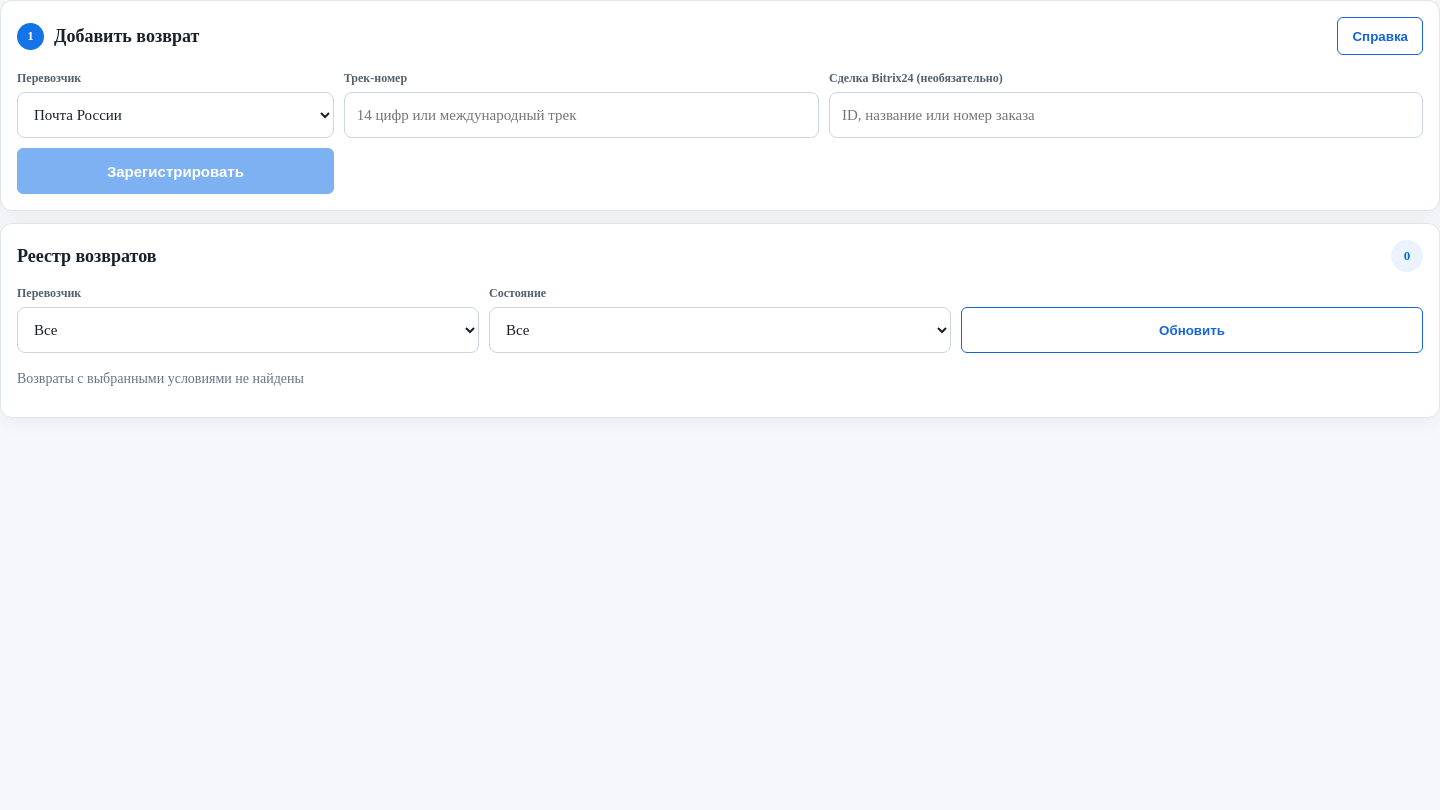
Test: CustomerReturnsWorkspace › открывает рабочую справку и возвращает фокус после закрытия
Check: the text "Возвраты с выбранными условиями не найдены" is shown, box [17,371,304,386]
Click the button with aria-label "Открыть справку по возвратам" at (1380,36), box [1338,17,1423,55]
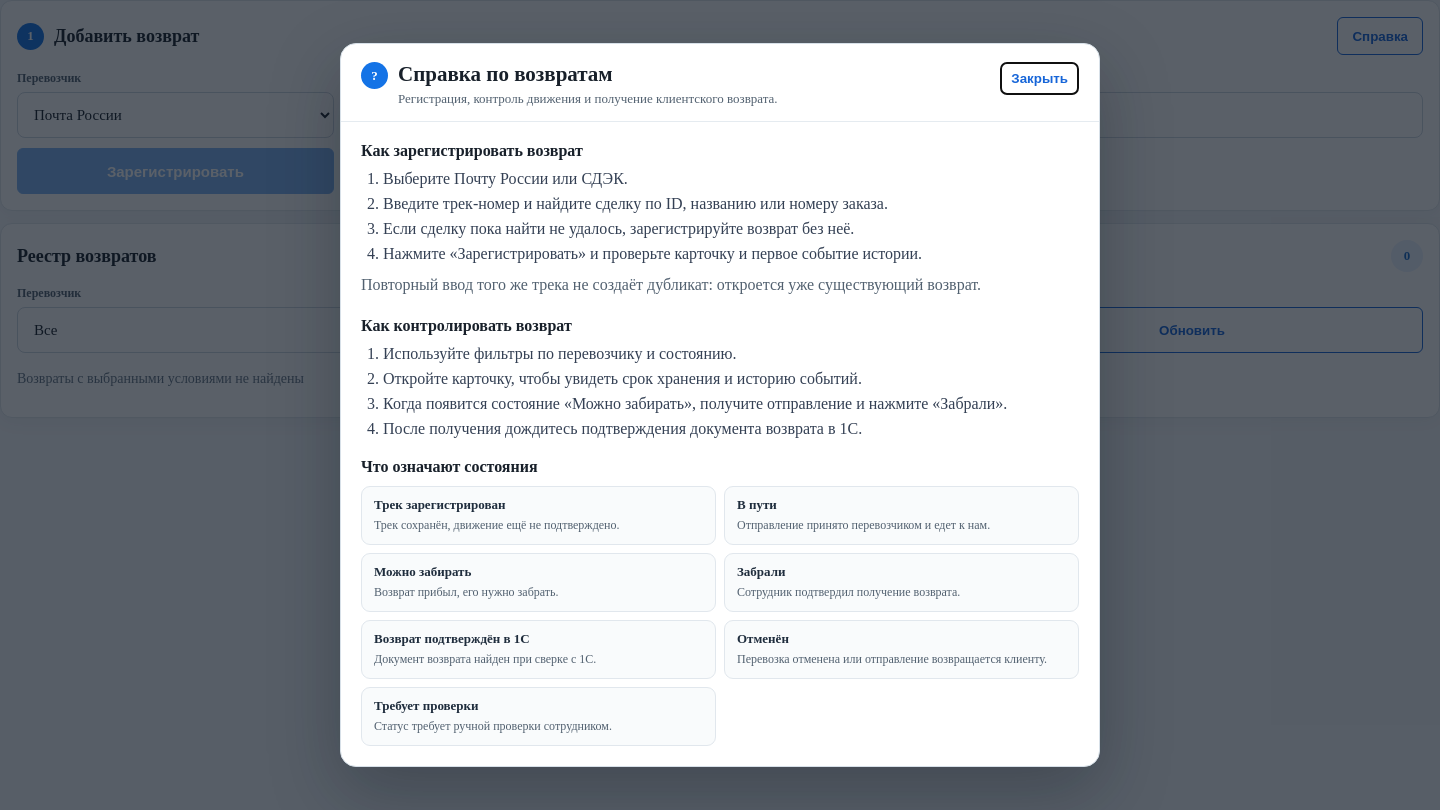
Check: the dialog "Справка по возвратам" is shown
Check: the heading "Как зарегистрировать возврат" is shown, box [361,142,583,159]
Press Escape in the dialog "Справка по возвратам", box [340,43,1100,767]
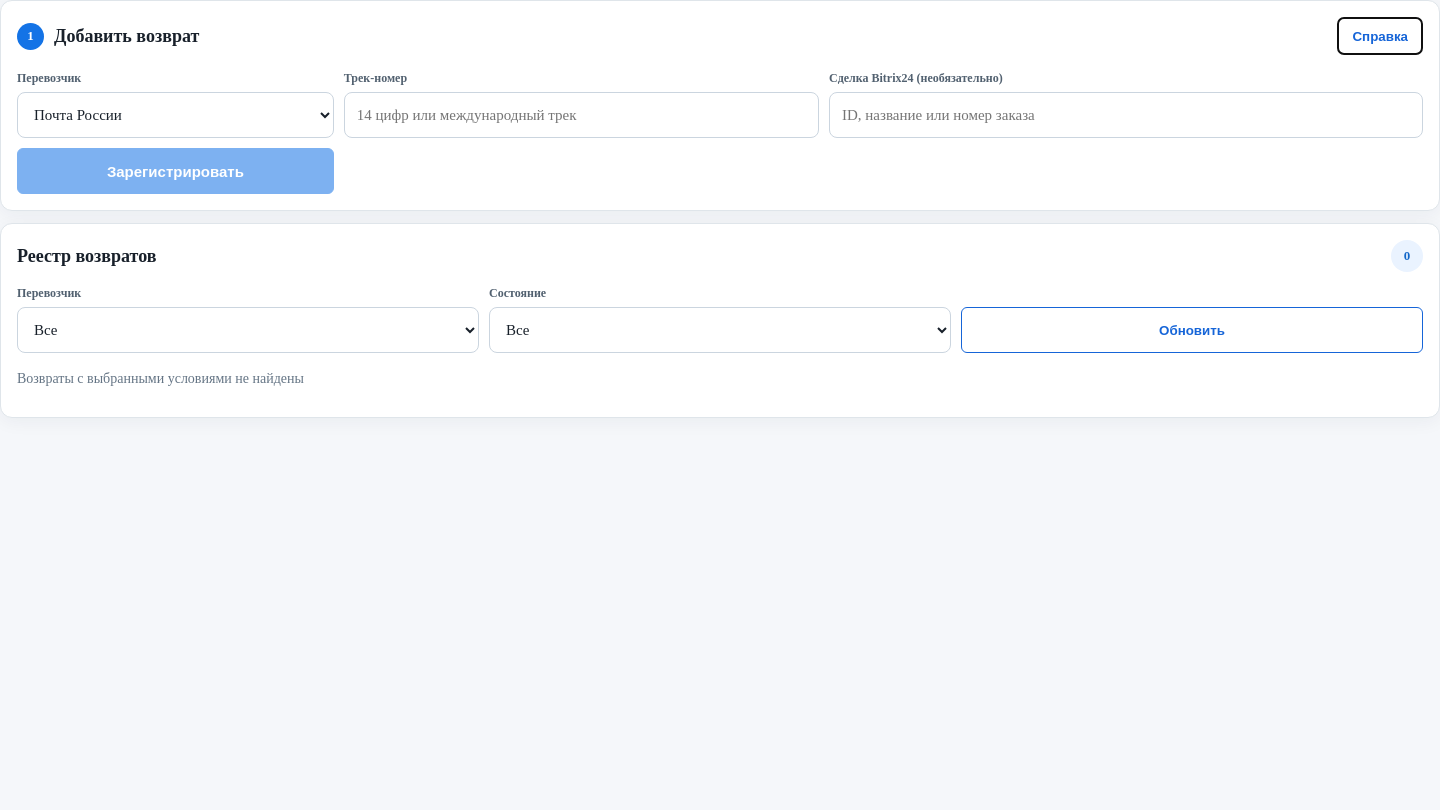
Check: the heading "Справка по возвратам" is gone
